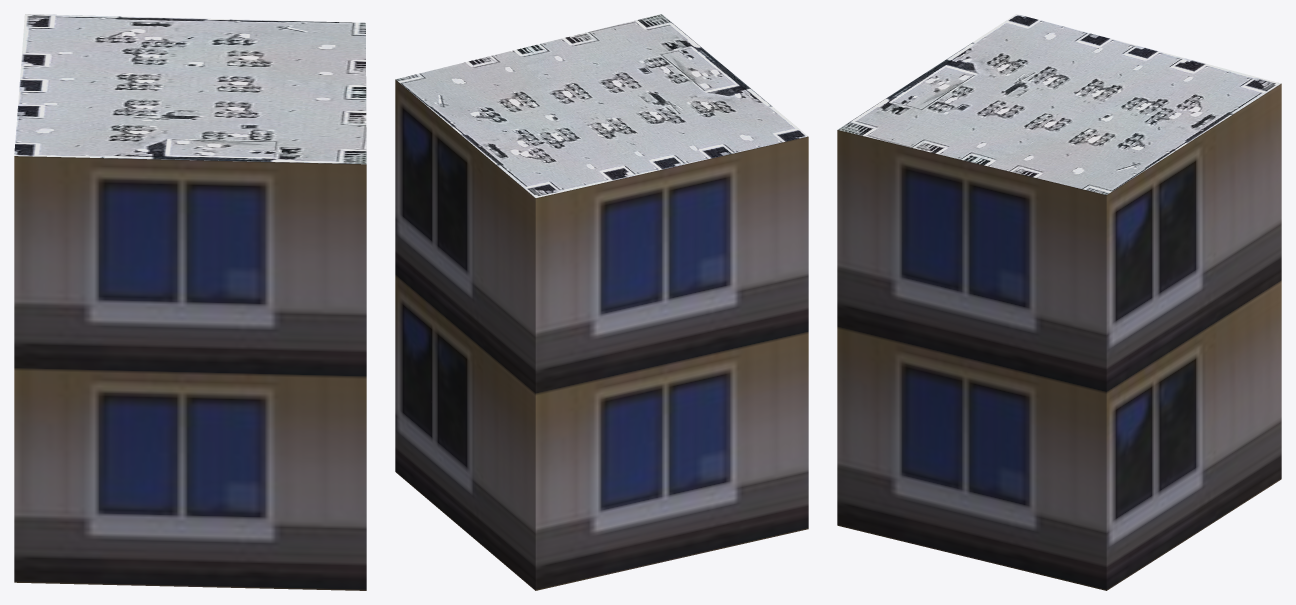
Rendered from ResTex__1948.fbx.
3 renders of one model, left to right at view 1: azimuth 30°, elevation 25°; view 2: azimuth 150°, elevation 25°; view 3: azimuth 270°, elevation 25°, orthographic. The views are drawn at different scales.
Visible parts, largest first — view 1: CityEngineMaterial_5_m, CityEngineMaterial_8_m; view 2: CityEngineMaterial_5_m, CityEngineMaterial_8_m; view 3: CityEngineMaterial_5_m, CityEngineMaterial_8_m.
Part boxes in pixels (box(x1,y1,x2,y2)): CityEngineMaterial_5_m: box(14, 156, 366, 590); CityEngineMaterial_8_m: box(14, 14, 366, 164); CityEngineMaterial_5_m: box(395, 79, 808, 590); CityEngineMaterial_8_m: box(396, 14, 807, 197); CityEngineMaterial_5_m: box(837, 83, 1281, 590); CityEngineMaterial_8_m: box(837, 14, 1280, 194).
Bounding box in the file's own units: 5.89 × 6 × 6.1.
2 materials, 2 textured.
